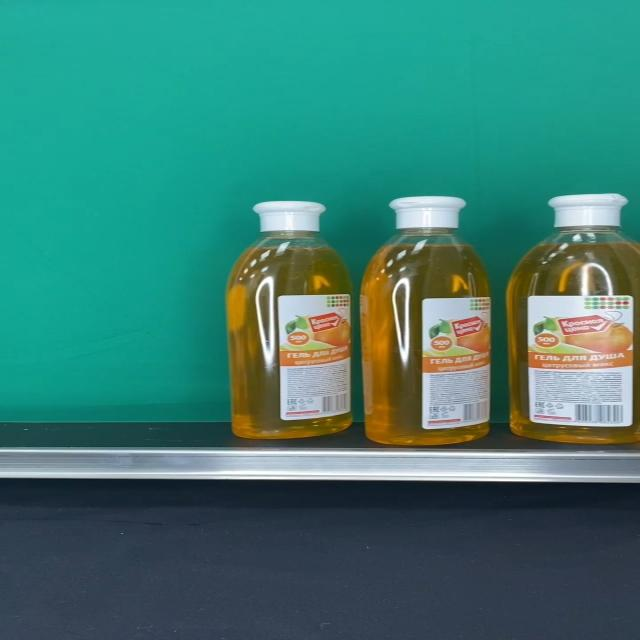Bottle: (506, 193, 640, 444), (359, 196, 492, 445), (226, 201, 353, 439)
Cap: (548, 194, 628, 228), (388, 196, 466, 229), (252, 202, 326, 232)
